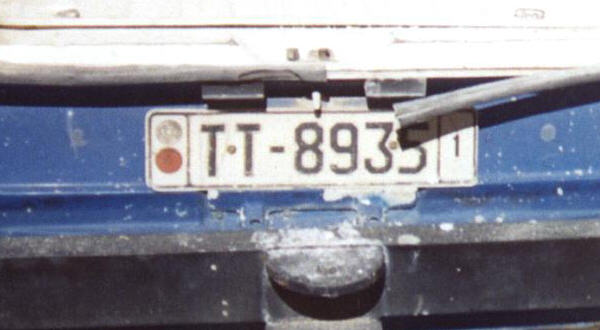license_plate: (146, 110, 479, 186)
